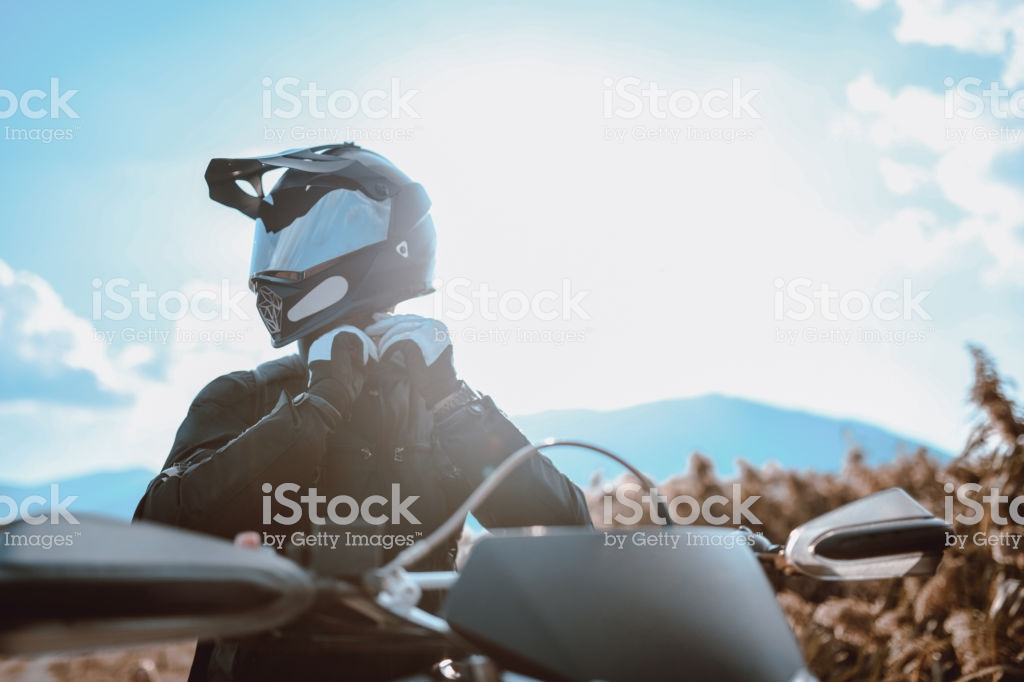helmet: (234, 150, 449, 306)
